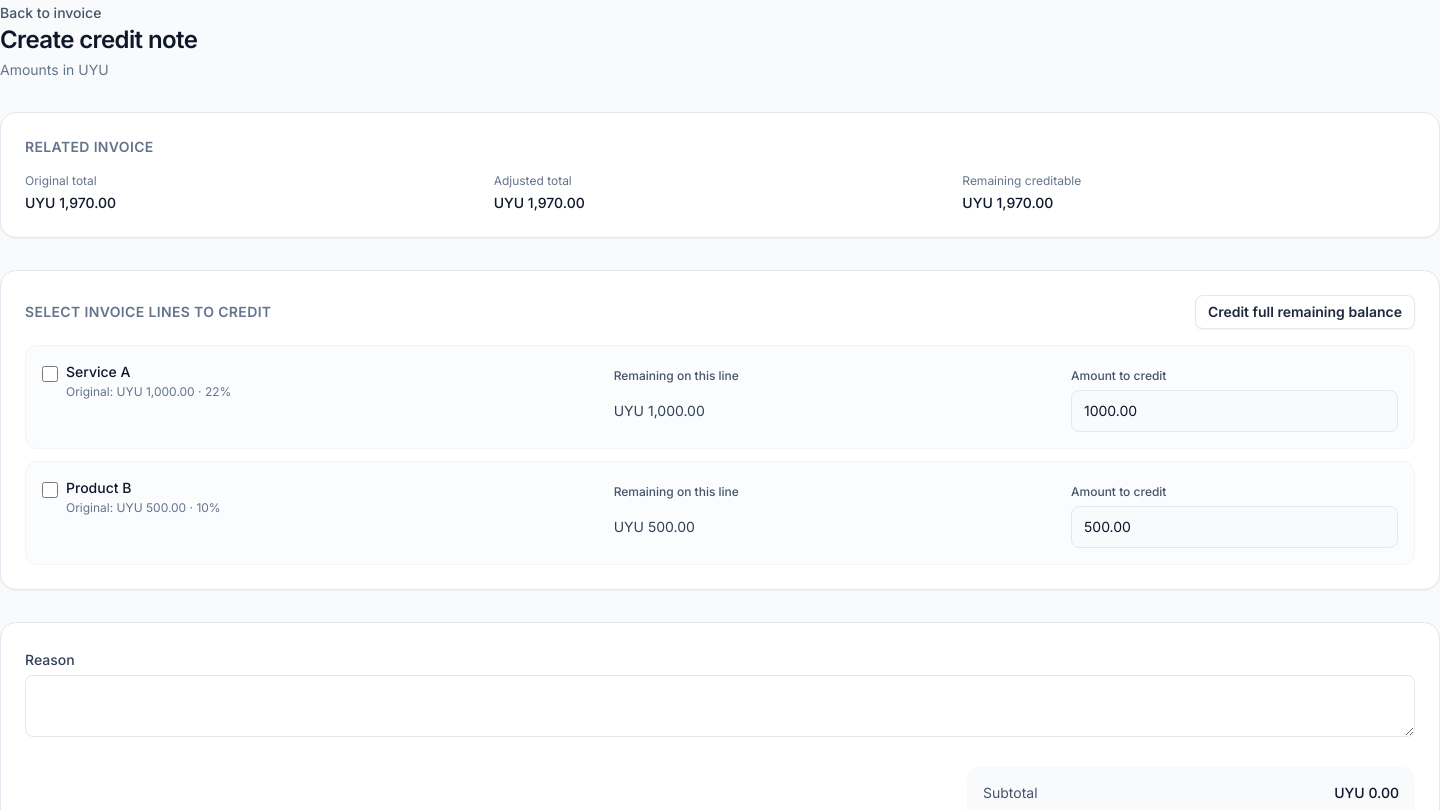
Test: credit note creation › 'credit full remaining balance' selects every line at its full amount
Expected: the text "Service A" is shown, [66, 363, 130, 380]
Click the button "Credit full remaining balance": (1305,312) [1195, 295, 1415, 329]
(page scrolled)
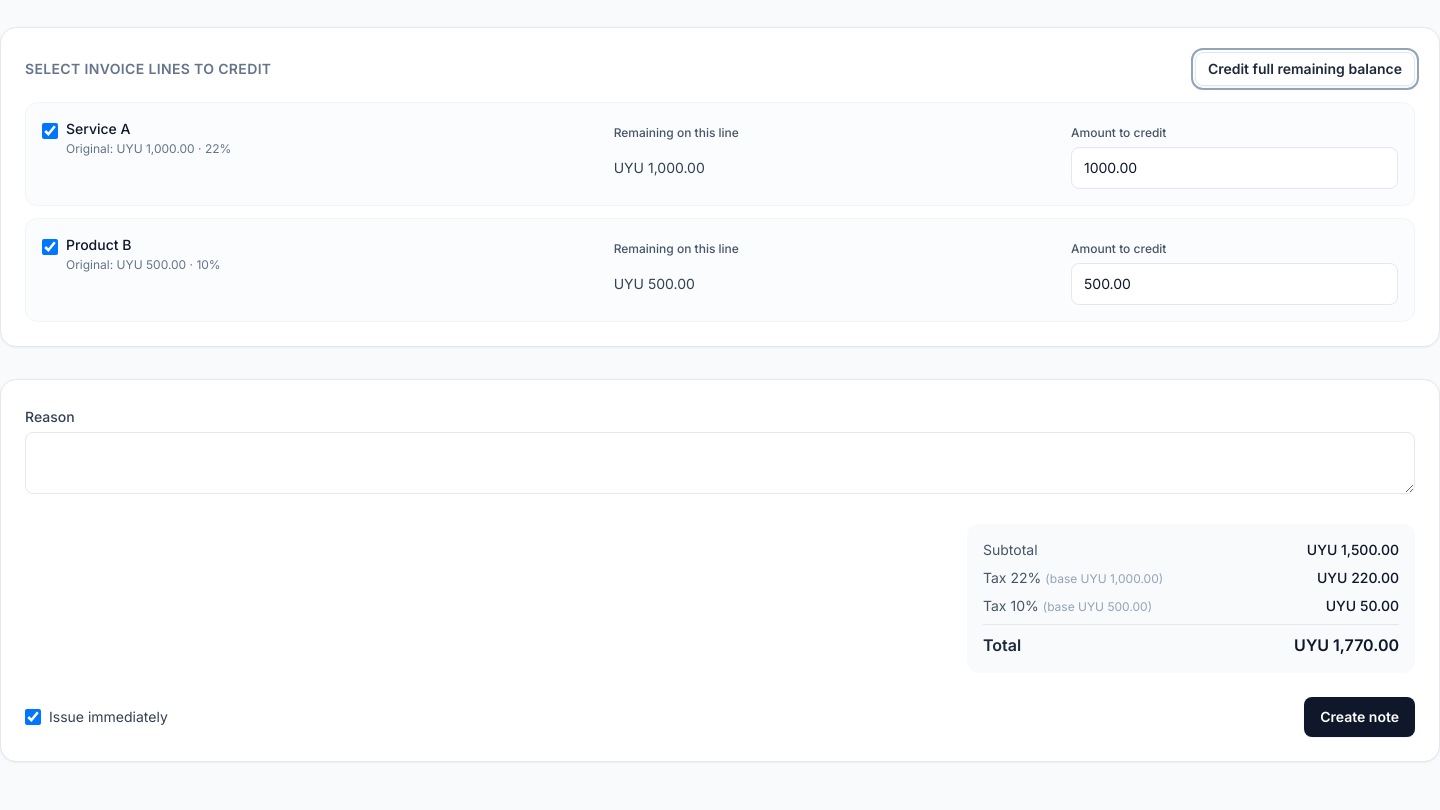
Expected: the text with test id "note-total" reads "UYU 1,770.00", [1294, 635, 1399, 655]
